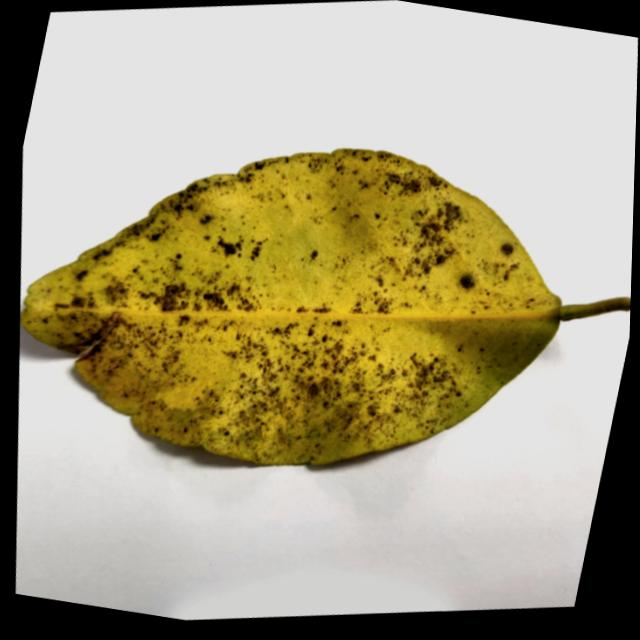melanose: (19, 148, 631, 465)
